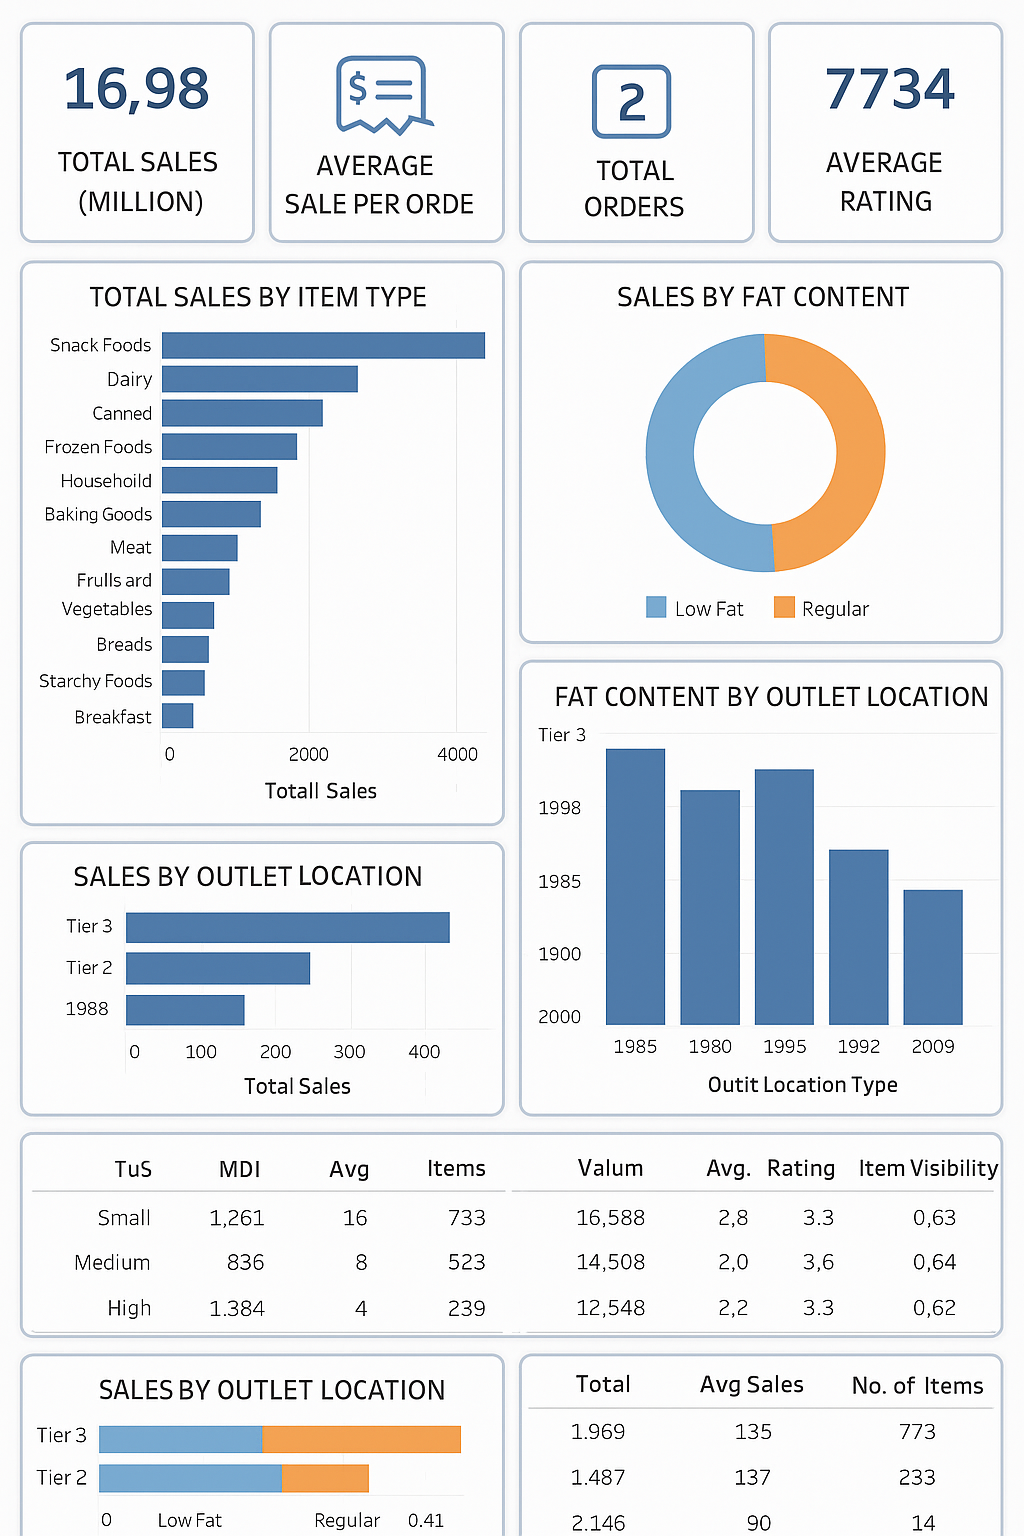

The page's visual inventory and layout, read from the dashboard file:
{"tool":"tableau","page":{"name":"Dashboard 1","canvas":[1000,1000],"units":"permille","ordinal":0},"visuals":[{"type":"worksheet","title":"Total_Revenue","mark":"Bar","rows":["F11"],"box":[5.3,10,230,239.4]},{"type":"worksheet","title":"FAT_Content_Analysis_Bar_Chart","mark":"Automatic","rows":["F1"],"cols":["F11"],"box":[235.3,10,460.1,278.1]},{"type":"legend","title":"FAT_Content_Analysis_Pie_Chart","param":"[federated.017hg3p07kbjxp1djxkbr0xh1tm0].[none:F1:nk]","box":[695.4,10,299.3,89.8]},{"type":"legend","title":"FAT_Content_Analysis_Pie_Chart","param":"[federated.017hg3p07kbjxp1djxkbr0xh1tm0].[sum:F11:qk]","box":[695.4,99.8,299.3,63.6]},{"type":"worksheet","title":"Sales by Location Type","mark":"Automatic","rows":["F6"],"cols":["F11"],"box":[695.4,163.4,299.3,250.6]},{"type":"worksheet","title":"Average_Sales","mark":"Automatic","rows":["F11"],"box":[5.3,249.4,230,250.6]},{"type":"worksheet","title":"FAT_Content_Analysis_Pie_Chart","mark":"Pie","box":[235.3,288,460.1,240.7]},{"type":"worksheet","title":"Sheet 9","mark":"Automatic","rows":["F11"],"cols":["F7"],"box":[695.4,414,299.3,258.7]},{"type":"worksheet","title":"Average_Rating","mark":"Automatic","rows":["F12"],"box":[5.3,500,230,249.4]},{"type":"worksheet","title":"Item_Type_Revenue_BarChart","mark":"Automatic","rows":["F3"],"cols":["F11"],"box":[235.3,528.7,460.1,461.3]},{"type":"worksheet","title":"Sales Over Year","mark":"Area","rows":["F11"],"cols":["F4"],"box":[695.4,672.7,299.3,277.4]},{"type":"worksheet","title":"Number_of_items_sold","mark":"Automatic","rows":["F2"],"box":[5.3,749.4,230,240.6]},{"type":"legend","title":"Sheet 9","param":"[federated.017hg3p07kbjxp1djxkbr0xh1tm0].[none:F7:nk]","box":[695.4,950.1,299.3,39.9]}]}

Visuals, with their boxes on the dashboard's canvas, which has no fixed pixel size, in thousandths of its width and height (x1, y1, x2, y2). These are canvas units, not pixel positions in the 1024x1536 screenshot, which may show the page scaled, cropped or inside an application window:
"Total_Revenue" worksheet (Bar marks): <region>5, 10, 235, 249</region>
"FAT_Content_Analysis_Bar_Chart" worksheet: <region>235, 10, 695, 288</region>
"FAT_Content_Analysis_Pie_Chart" legend: <region>695, 10, 995, 100</region>
"FAT_Content_Analysis_Pie_Chart" legend: <region>695, 100, 995, 163</region>
"Sales by Location Type" worksheet: <region>695, 163, 995, 414</region>
"Average_Sales" worksheet: <region>5, 249, 235, 500</region>
"FAT_Content_Analysis_Pie_Chart" worksheet (Pie marks): <region>235, 288, 695, 529</region>
"Sheet 9" worksheet: <region>695, 414, 995, 673</region>
"Average_Rating" worksheet: <region>5, 500, 235, 749</region>
"Item_Type_Revenue_BarChart" worksheet: <region>235, 529, 695, 990</region>
"Sales Over Year" worksheet (Area marks): <region>695, 673, 995, 950</region>
"Number_of_items_sold" worksheet: <region>5, 749, 235, 990</region>
"Sheet 9" legend: <region>695, 950, 995, 990</region>
